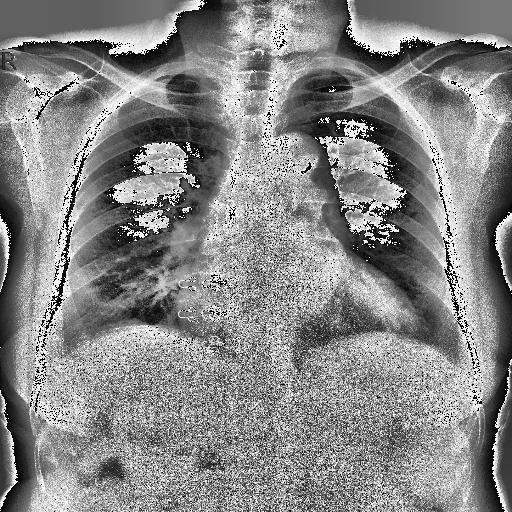0- Aortic enlargement: (262, 129, 338, 207), (264, 134, 340, 204), (263, 128, 338, 194)
3- Cardiomegaly: (176, 272, 423, 341), (177, 276, 416, 335)
